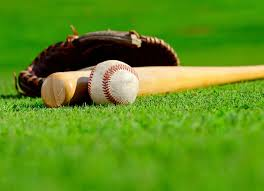baseball bat: (41, 61, 264, 109)
